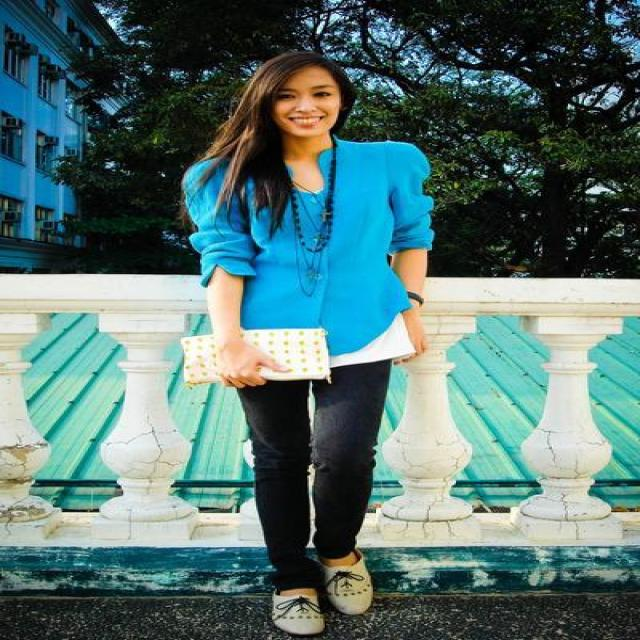bag: (180, 328, 338, 397)
pants: (237, 358, 390, 586)
shirt: (182, 141, 436, 365)
shoe: (272, 552, 371, 634)
